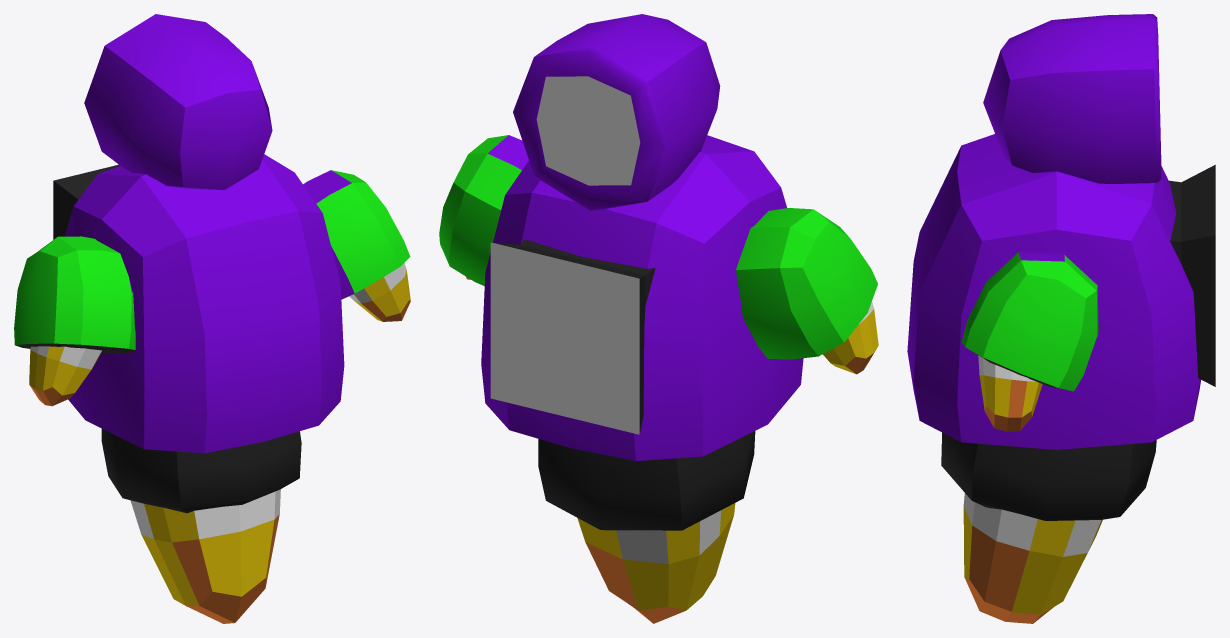
The model's file is flying_robot.glb.
3 renders of one model, left to right at view 1: azimuth 30°, elevation 25°; view 2: azimuth 150°, elevation 25°; view 3: azimuth 270°, elevation 25°, orthographic. The views are drawn at different scales.
Visible parts, largest first — view 1: Cube.003; view 2: Cube.003; view 3: Cube.003.
Part boxes in pixels (bbox=[...]): Cube.003: bbox=[14, 14, 410, 623]; Cube.003: bbox=[439, 14, 878, 623]; Cube.003: bbox=[907, 14, 1215, 623].
Size of the model in its own units: 3.34 by 4.81 by 2.22.
